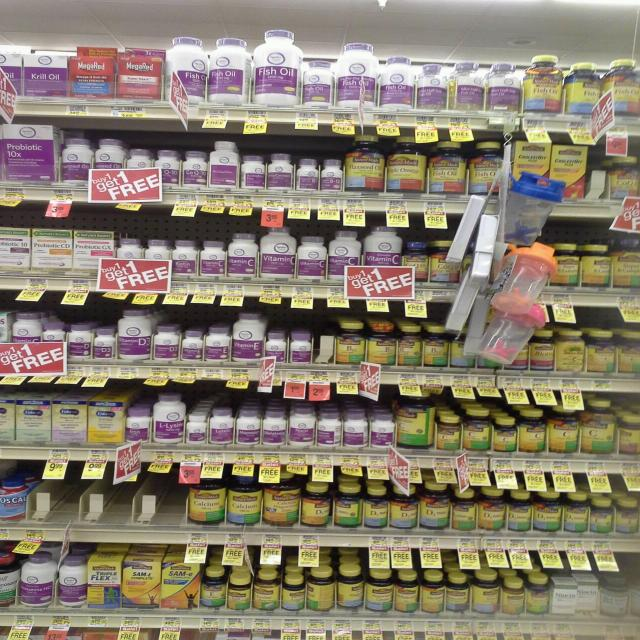unorganised: (302, 39, 452, 114), (168, 37, 251, 106), (282, 564, 363, 614), (303, 482, 333, 529)
